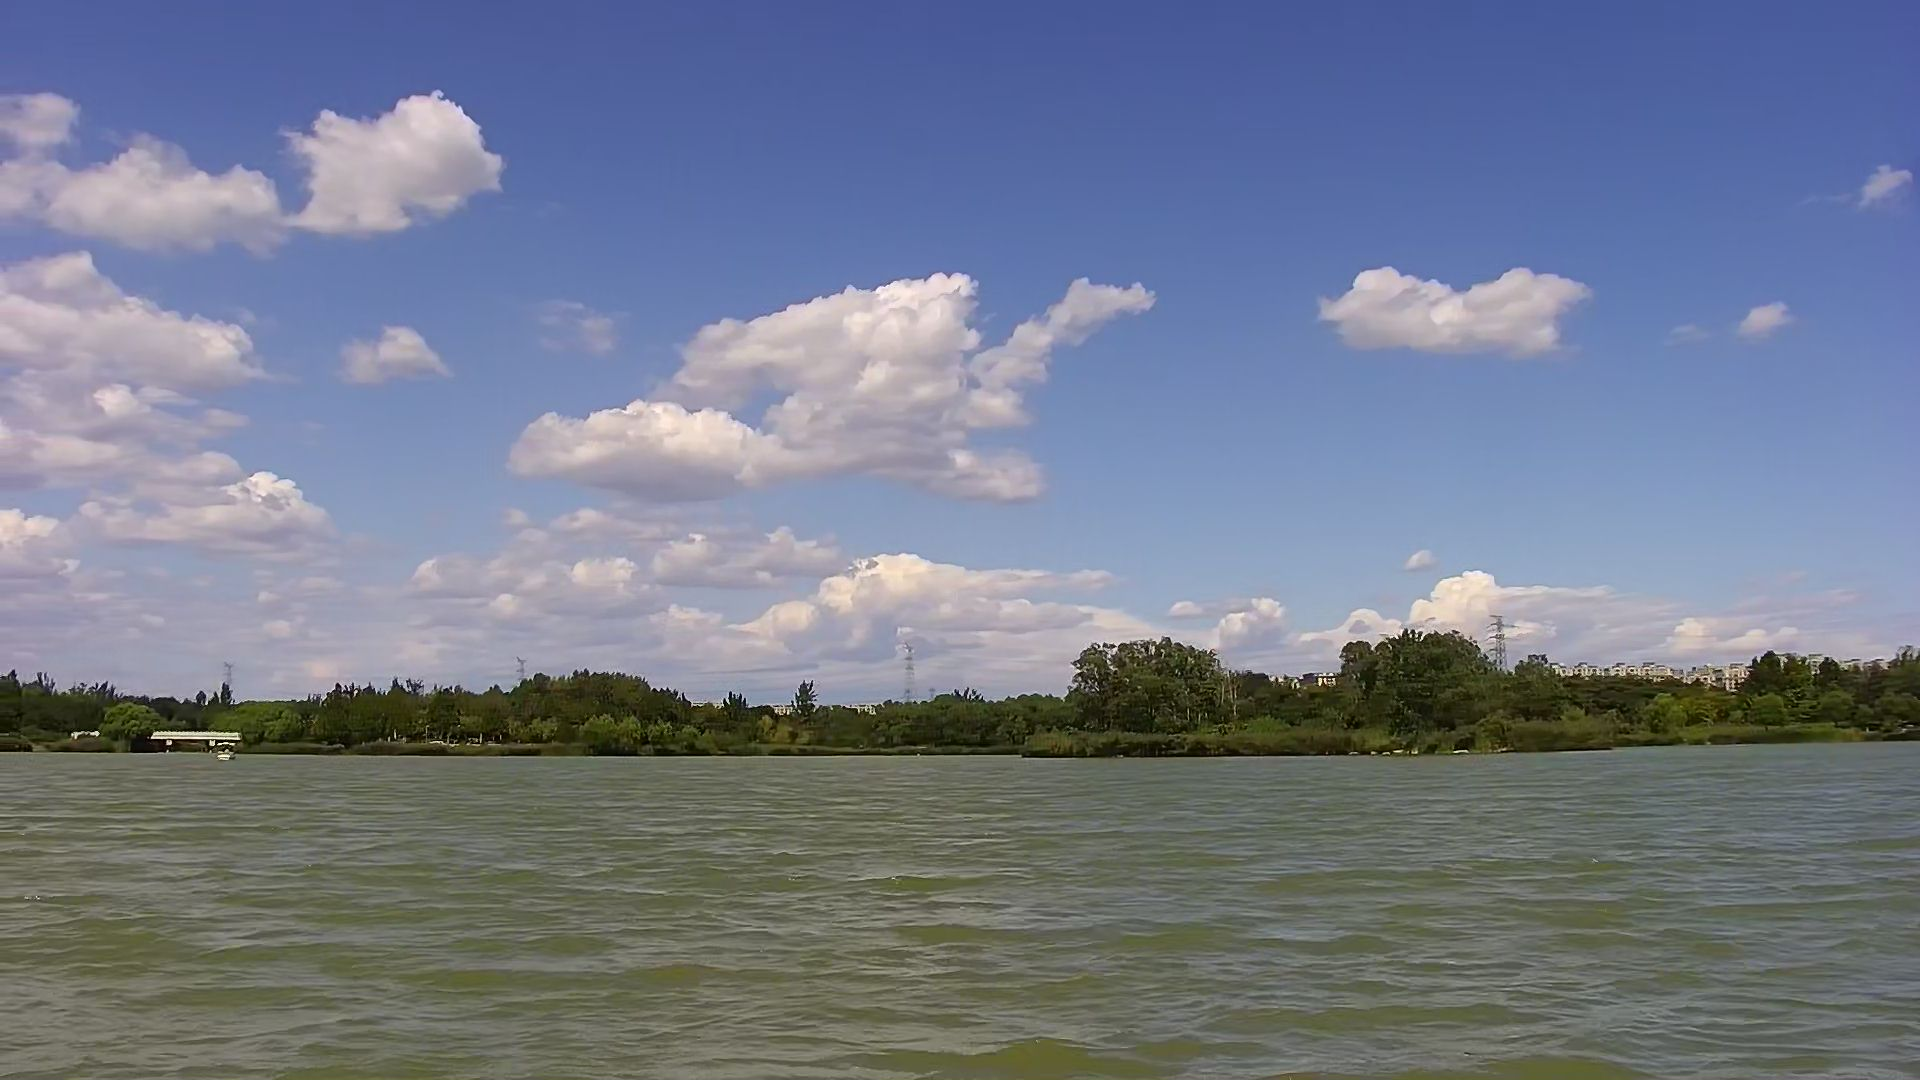harbor: (146, 721, 244, 762)
